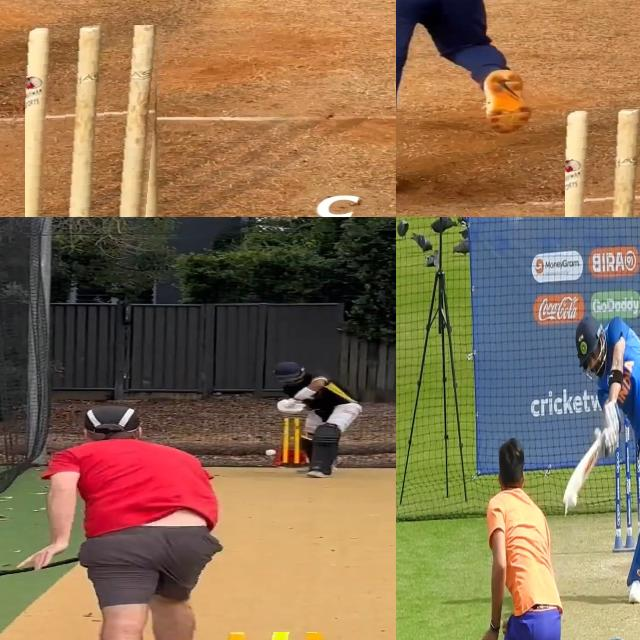Cricket ball: (568, 491, 580, 511), (266, 448, 279, 457)
Stumps: (25, 25, 162, 217), (564, 109, 640, 217)
